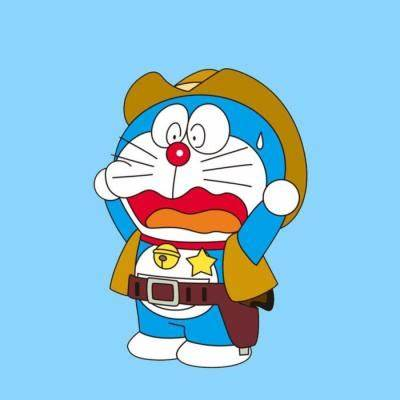Doraemon: (84, 75, 309, 367)
